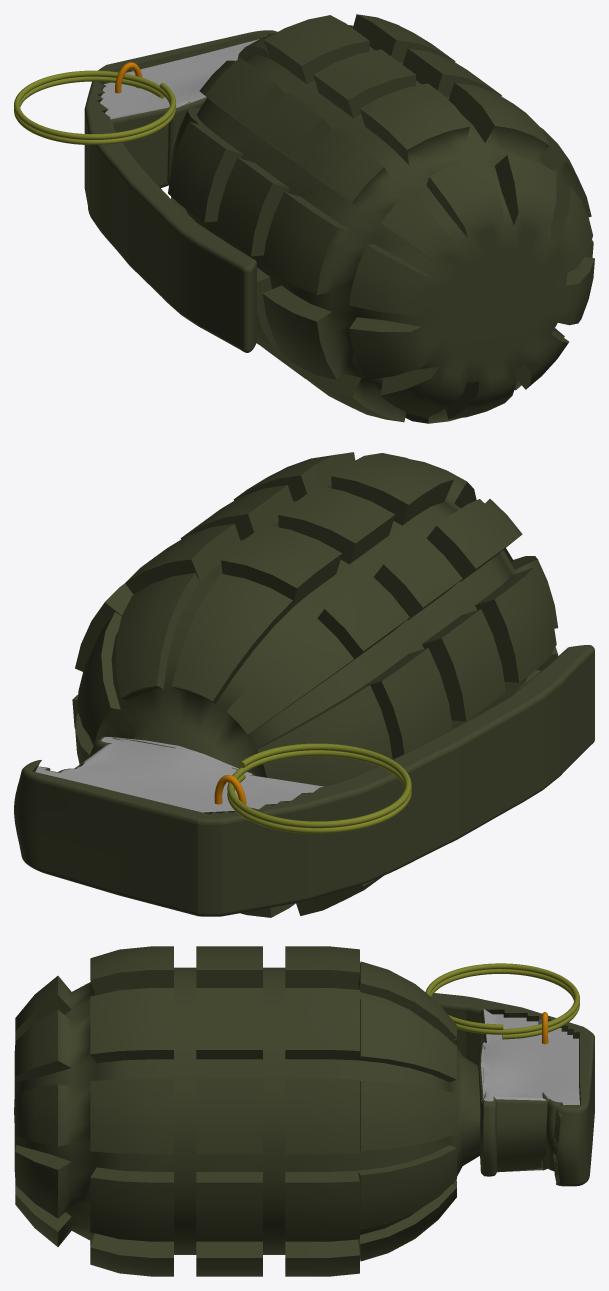
The model's file is grenade.fbx.
The picture shows the model from 3 angles, top to bottom: view 1: azimuth 30°, elevation 25°; view 2: azimuth 150°, elevation 25°; view 3: azimuth 270°, elevation 25°; orthographic projection. The views are drawn at different scales.
Visible parts, largest first — view 1: base, handle, ring; view 2: base, handle, ring; view 3: base, handle, ring.
Part boxes in pixels (left/top/right/bottom): base: left=168, top=14, right=594, bottom=423; handle: left=84, top=30, right=277, bottom=352; ring: left=14, top=70, right=175, bottom=144; base: left=72, top=452, right=558, bottom=917; handle: left=14, top=645, right=594, bottom=916; ring: left=227, top=743, right=411, bottom=833; base: left=14, top=946, right=480, bottom=1276; handle: left=431, top=993, right=594, bottom=1186; ring: left=425, top=963, right=579, bottom=1039.
Bounding box in the file's own units: 720 × 591 × 1038.
Materials: 3 (1 with a texture image).
